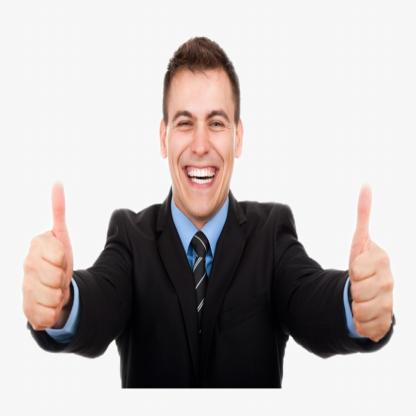Thumbs-Up: (20, 180, 78, 329), (345, 179, 397, 345)
